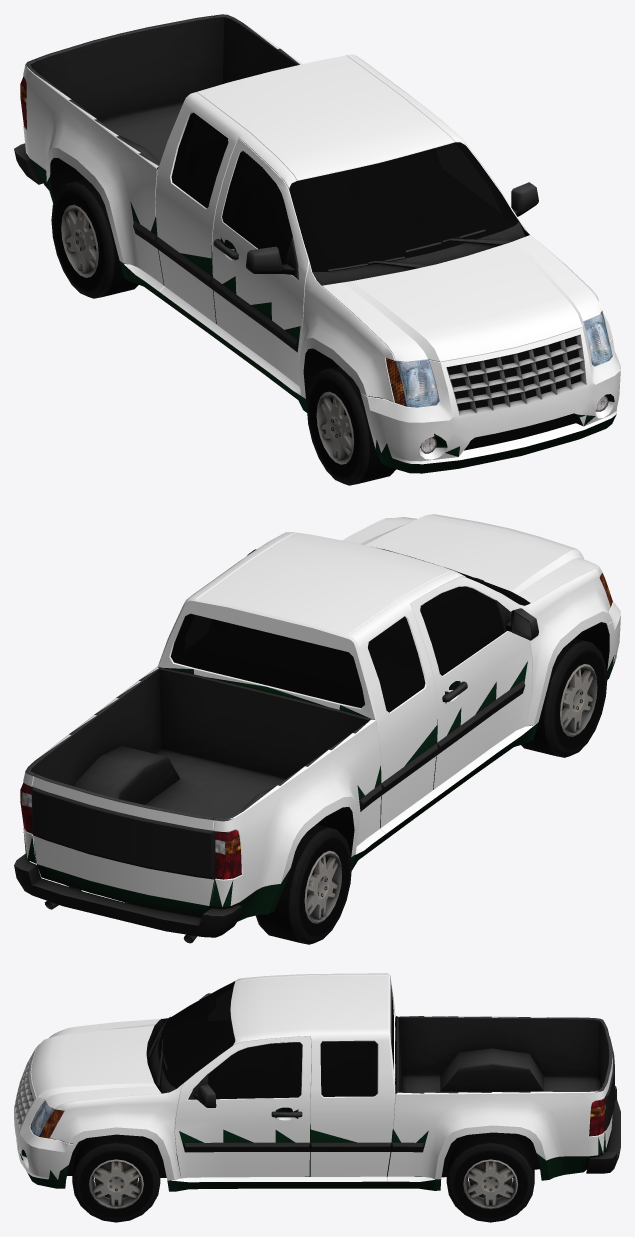
The model's file is pickup-1.glb.
3 renders of one model, top to bottom at view 1: azimuth 30°, elevation 25°; view 2: azimuth 150°, elevation 25°; view 3: azimuth 270°, elevation 25°, orthographic. The views are drawn at different scales.
Parts seen in each view (by area): view 1: body, wheel_fr, wheel_rr; view 2: body, wheel_rr, wheel_fr; view 3: body, wheel_rl, wheel_fl.
Boxes of the visible parts, <box> form: body: <box>14,14,620,473</box>; wheel_fr: <box>306,366,395,485</box>; wheel_rr: <box>51,178,138,298</box>; body: <box>14,514,620,943</box>; wheel_rr: <box>256,824,351,944</box>; wheel_fr: <box>521,638,607,757</box>; body: <box>14,973,620,1191</box>; wheel_rl: <box>446,1132,534,1222</box>; wheel_fl: <box>72,1134,160,1222</box>.
Bounding box in the file's own units: 2.07 × 1.7 × 5.18.
5 materials, 3 textured.
